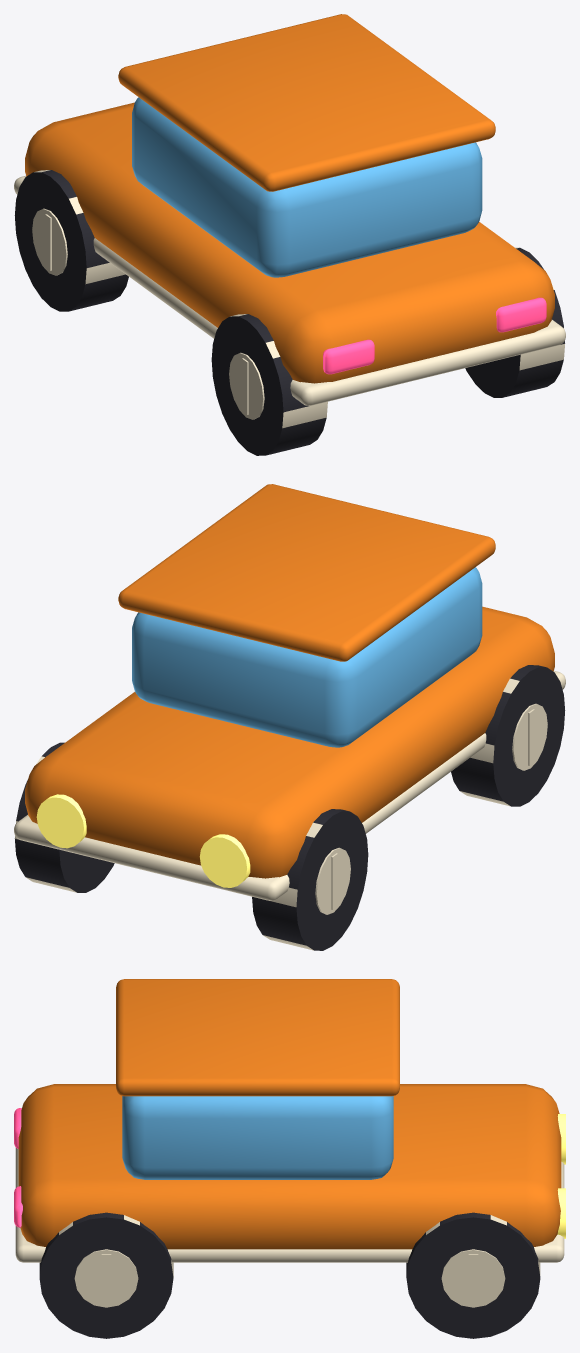
File: car.glb
3 views of the same model, one above another, from view 1: azimuth 30°, elevation 25°; view 2: azimuth 150°, elevation 25°; view 3: azimuth 270°, elevation 25° (orthographic). The views are drawn at different scales.
Parts seen in each view (by area): view 1: body, wheel_RL, wheel_FL, wheel_RR; view 2: body, wheel_FL, wheel_RL, wheel_FR; view 3: body, wheel_FR, wheel_RR.
Boxes of the visible parts, box(x1,y1,x2,y2) form: body: box(14, 14, 565, 405); wheel_RL: box(211, 314, 327, 455); wheel_FL: box(14, 170, 128, 311); wheel_RR: box(465, 247, 565, 397); body: box(14, 484, 565, 900); wheel_FL: box(252, 809, 368, 950); wheel_RL: box(451, 665, 565, 806); wheel_FR: box(14, 742, 114, 892); body: box(14, 979, 565, 1262); wheel_FR: box(406, 1212, 540, 1338); wheel_RR: box(39, 1212, 173, 1338).
Bounding box in the file's own units: 1.94 × 1.7 × 3.46.
